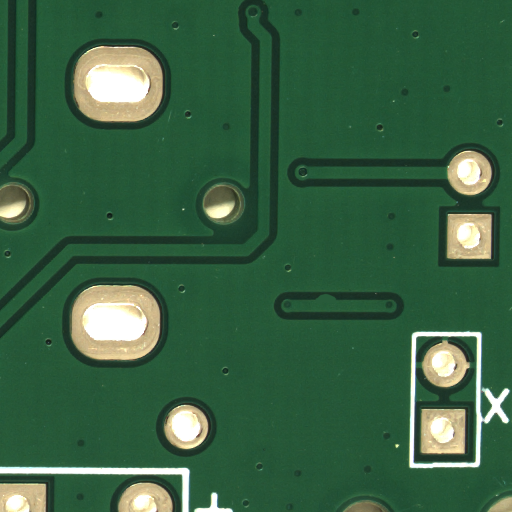Spur: (325, 297, 348, 305)
